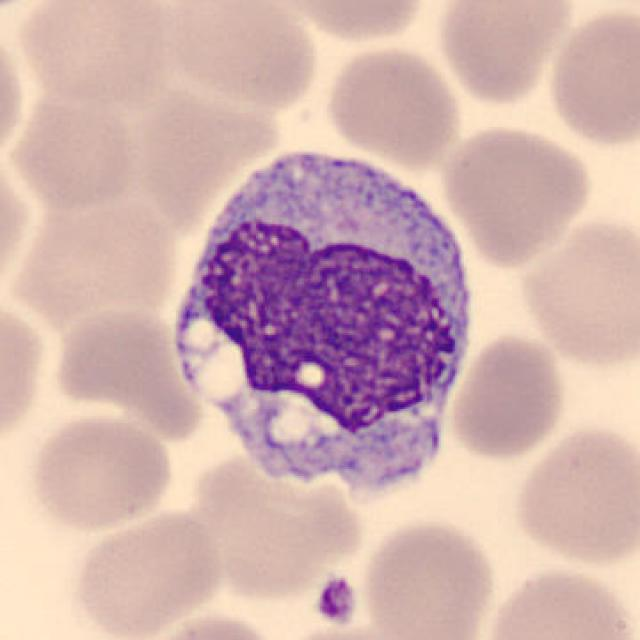Monocyte: (158, 132, 486, 508)
Platelets: (318, 577, 364, 630)
RBC: (178, 444, 366, 603), (4, 178, 183, 323), (46, 300, 208, 450), (439, 120, 596, 268), (71, 506, 226, 638), (4, 72, 144, 212), (508, 420, 638, 570), (516, 212, 638, 370), (25, 409, 178, 534), (322, 41, 464, 168), (156, 0, 321, 109), (359, 516, 503, 640), (12, 0, 178, 106), (444, 331, 570, 462), (434, 0, 576, 108), (544, 3, 638, 152), (478, 560, 638, 640), (0, 293, 50, 458), (263, 0, 434, 46), (0, 144, 32, 306), (126, 610, 286, 640), (0, 12, 30, 171), (0, 0, 67, 19)
